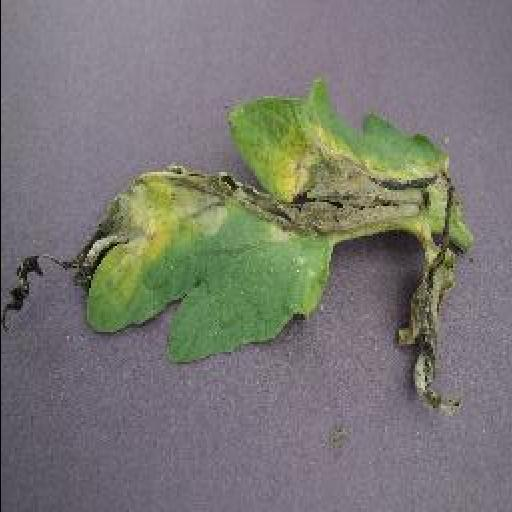disease_tomato: (0, 74, 470, 414)
